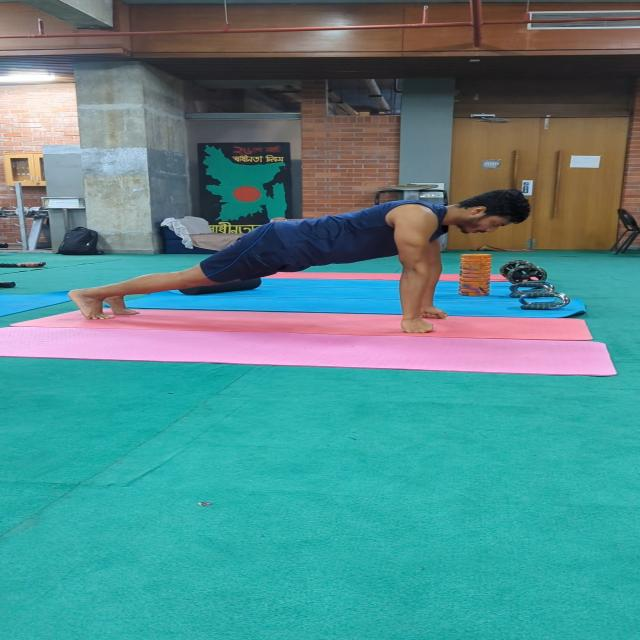Normal_PushUps: (65, 184, 551, 344)
